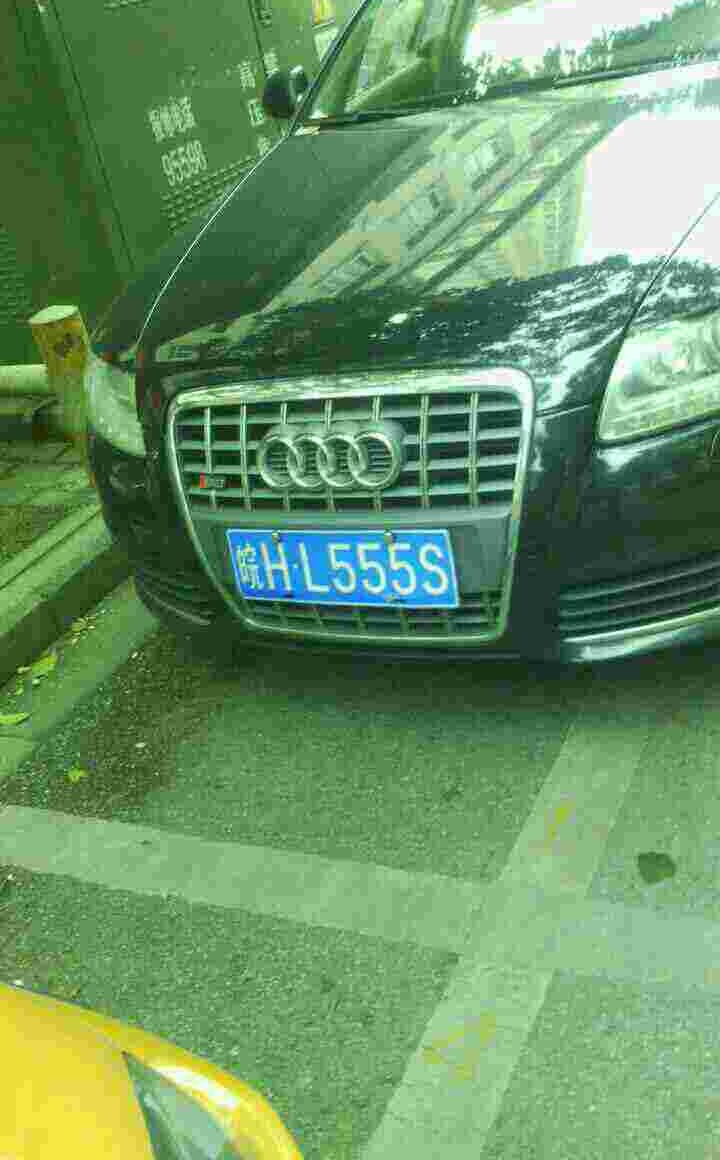license_plate: (228, 534, 447, 604)
